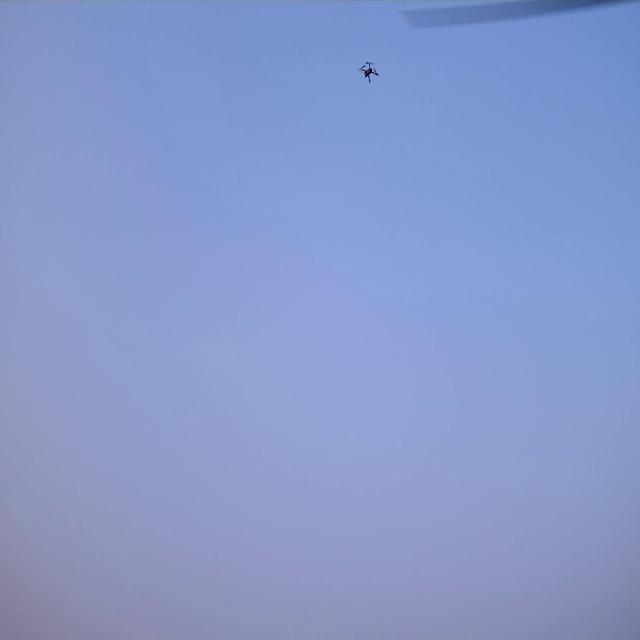UAV: (362, 62, 378, 82)
